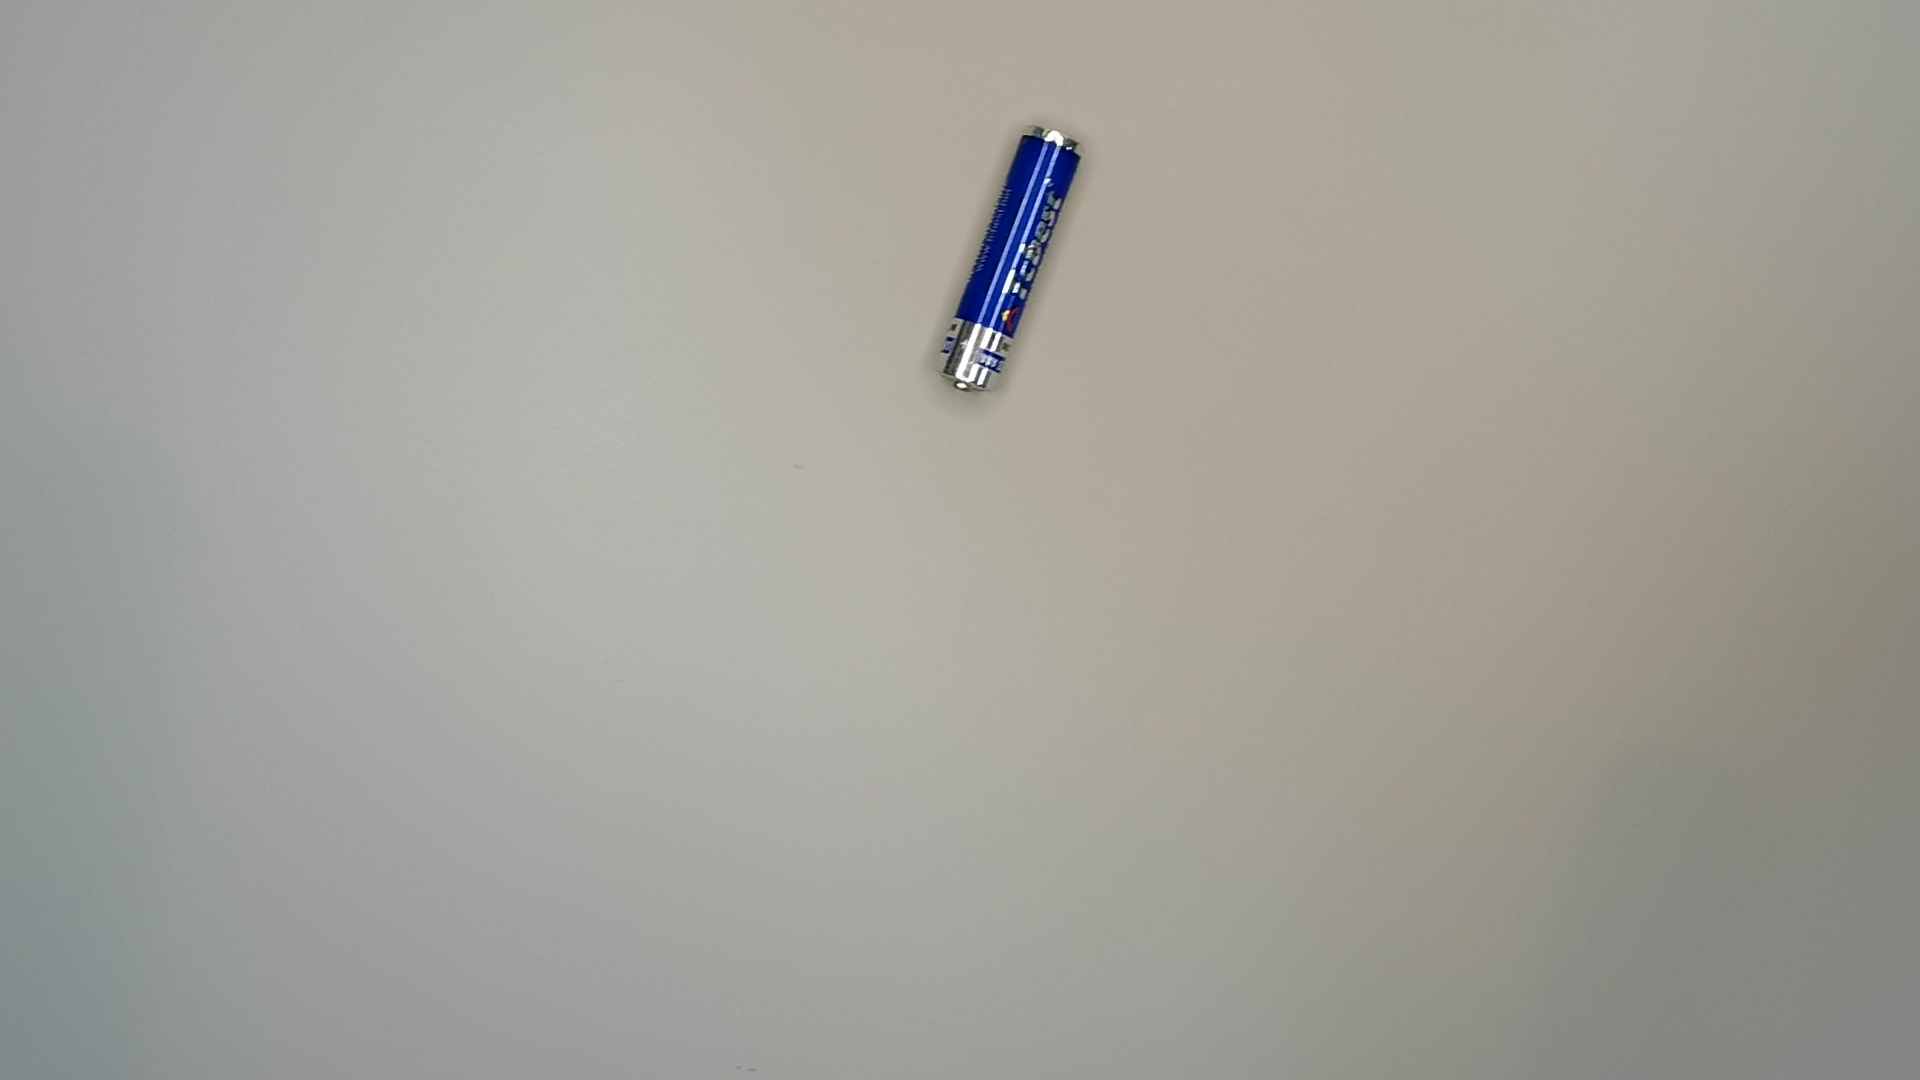battery: (928, 123, 1108, 400)
